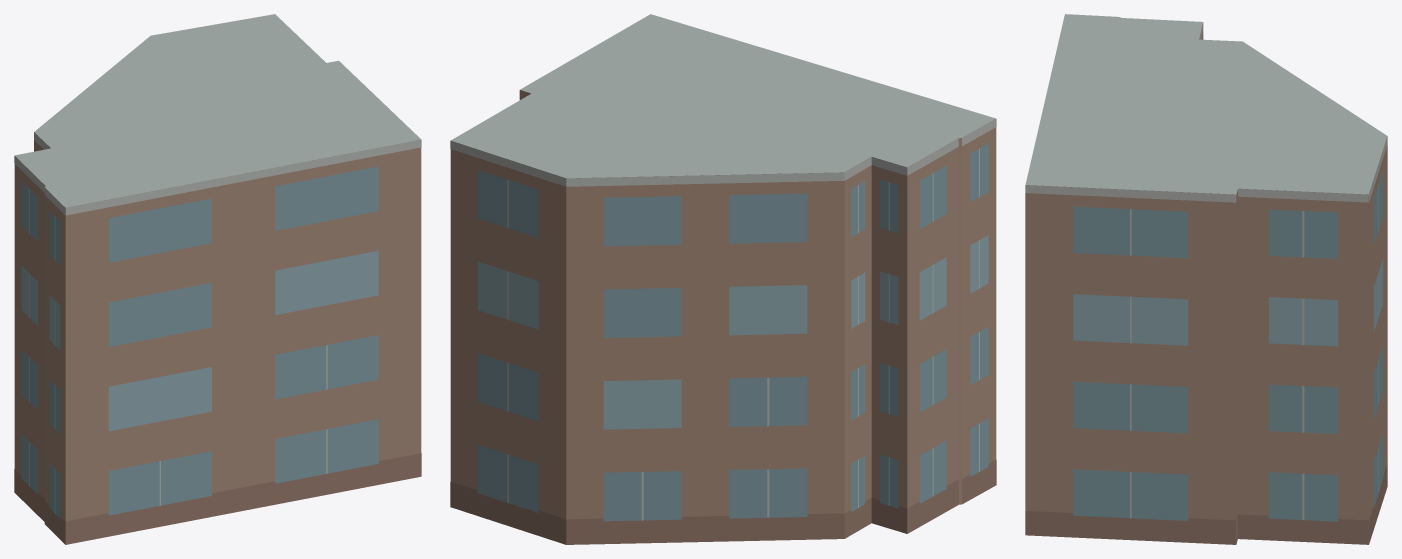
The model's file is survey-upis-32670321.glb.
3 renders of one model, left to right at view 1: azimuth 30°, elevation 25°; view 2: azimuth 150°, elevation 25°; view 3: azimuth 270°, elevation 25°, orthographic. The views are drawn at different scales.
Visible parts, largest first — view 1: survey-upis-32670321.tmp; view 2: survey-upis-32670321.tmp; view 3: survey-upis-32670321.tmp.
Part boxes in pixels (<box>): survey-upis-32670321.tmp: <box>14,14,421,544</box>; survey-upis-32670321.tmp: <box>450,14,996,544</box>; survey-upis-32670321.tmp: <box>1025,14,1387,544</box>.
Size of the model in its own units: 11.66 by 10.54 by 9.89.
